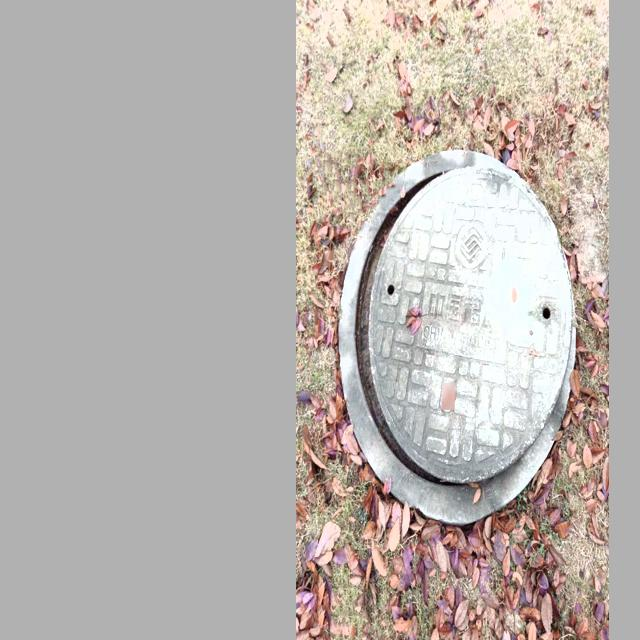uncovered: (337, 145, 575, 527)
